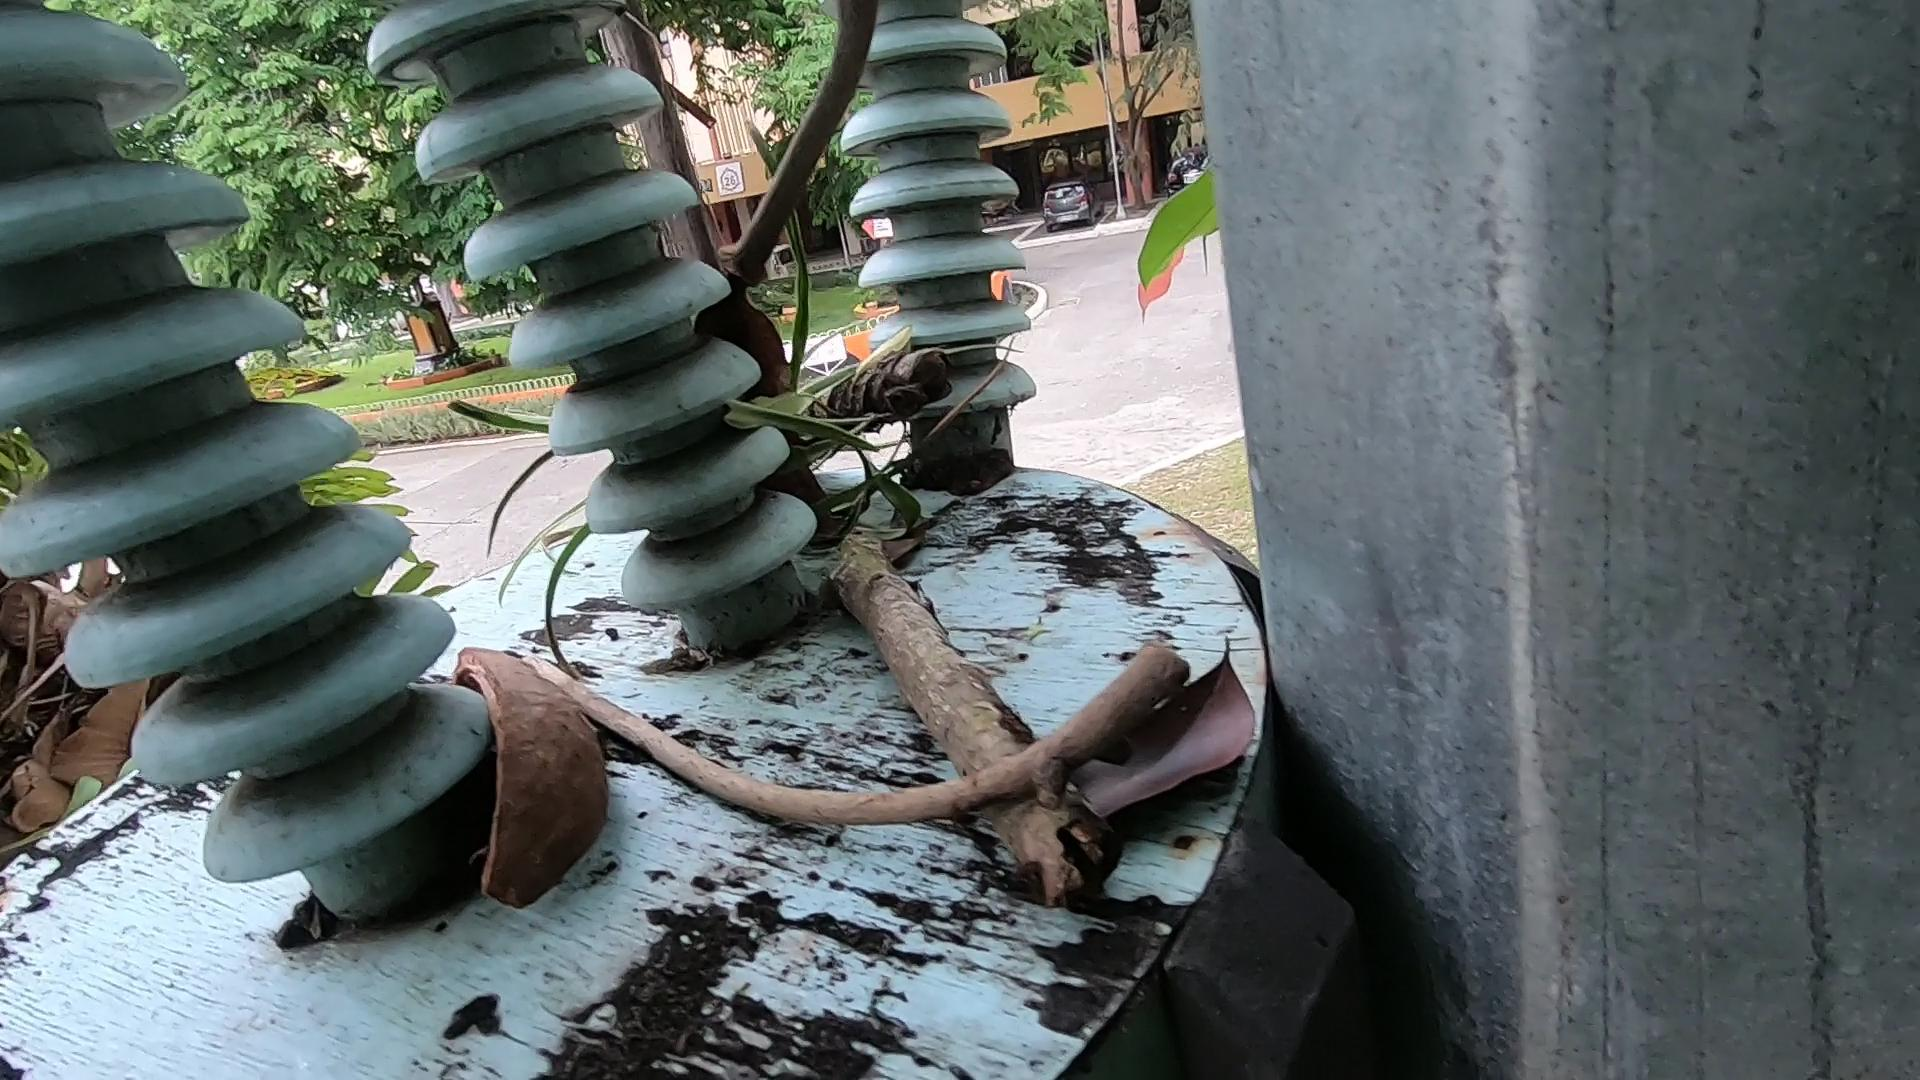branch with leaves: (728, 273, 1097, 938)
leaf: (1040, 661, 1308, 844)
mahogany fruit: (376, 634, 636, 998)
tree branch: (460, 588, 1201, 916), (760, 3, 975, 307)
